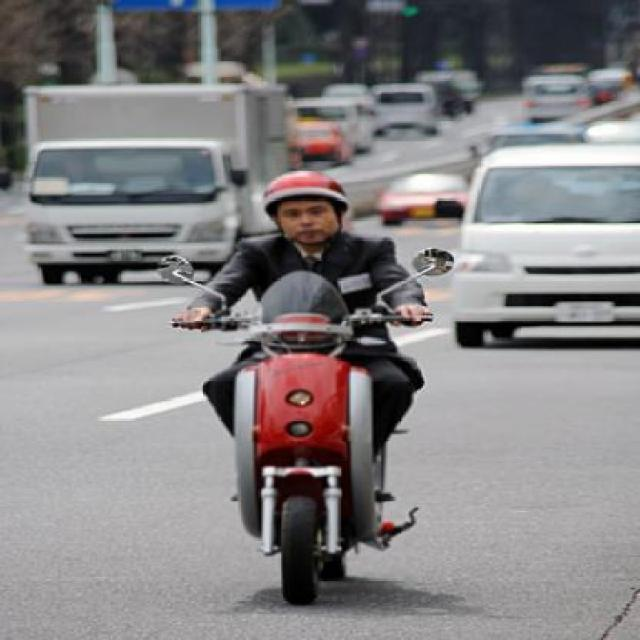helmet: (248, 168, 359, 257)
motorcycle: (144, 162, 458, 615)
